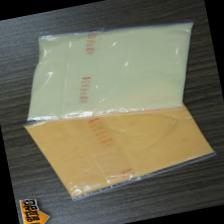cheese: (10, 7, 206, 136), (23, 86, 220, 206)
